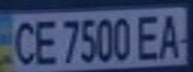0: (112, 14, 136, 62), (93, 15, 115, 63)
5: (78, 15, 96, 64)
7: (57, 16, 81, 65)
A: (154, 10, 187, 60)
C: (6, 17, 39, 66)
E: (30, 16, 60, 66), (133, 11, 163, 61)
